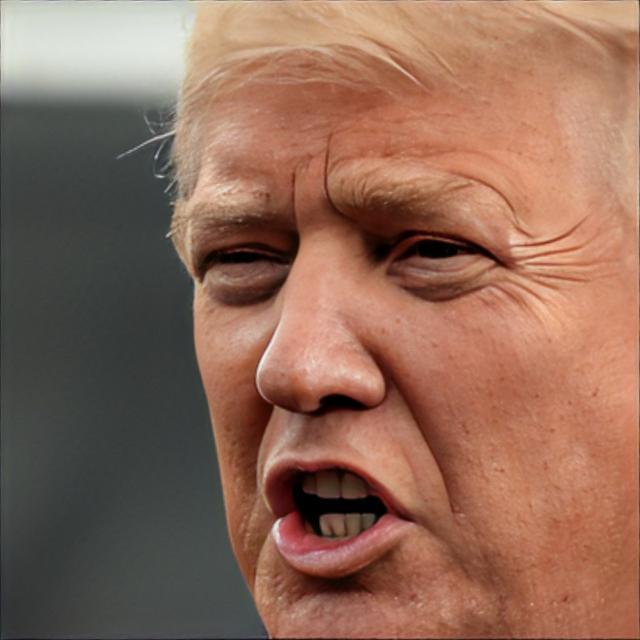disgust: (181, 1, 640, 640)
